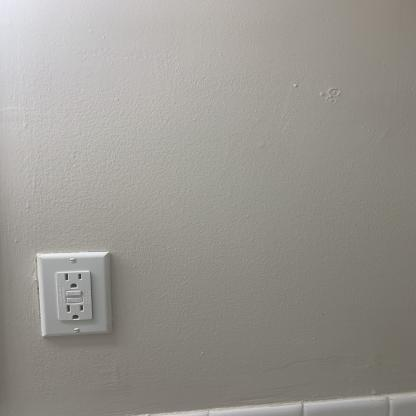OUTLET: (38, 253, 114, 337)
